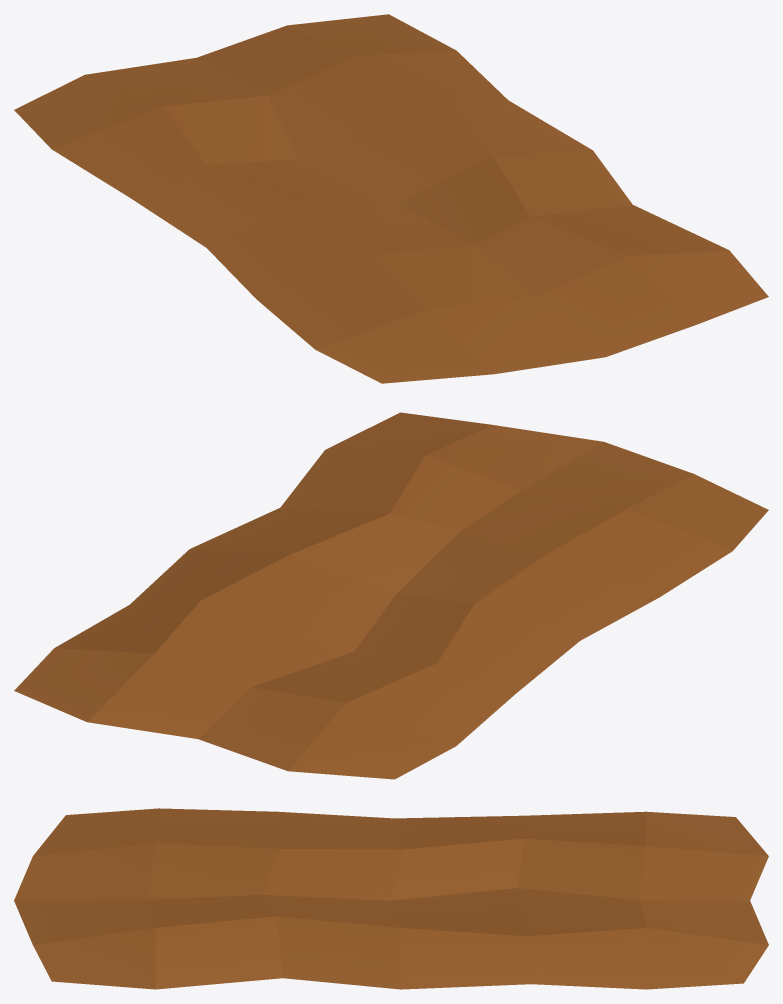
Rendered from cGround_C_7__.fbx.
3 renders of one model, top to bottom at view 1: azimuth 30°, elevation 25°; view 2: azimuth 150°, elevation 25°; view 3: azimuth 270°, elevation 25°, orthographic. The views are drawn at different scales.
Visible parts, largest first — view 1: cGround_C_7; view 2: cGround_C_7; view 3: cGround_C_7.
Part boxes in pixels (x1,y1,x2,y2): cGround_C_7: (14,14,768,383); cGround_C_7: (14,412,768,779); cGround_C_7: (14,808,768,989).
Size of the model in its own units: 931 by 42.01 by 1641.
